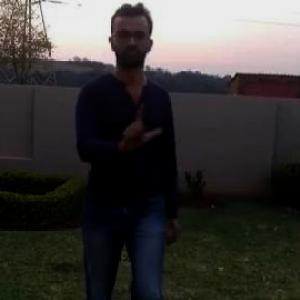land_hand: (115, 96, 164, 158)
